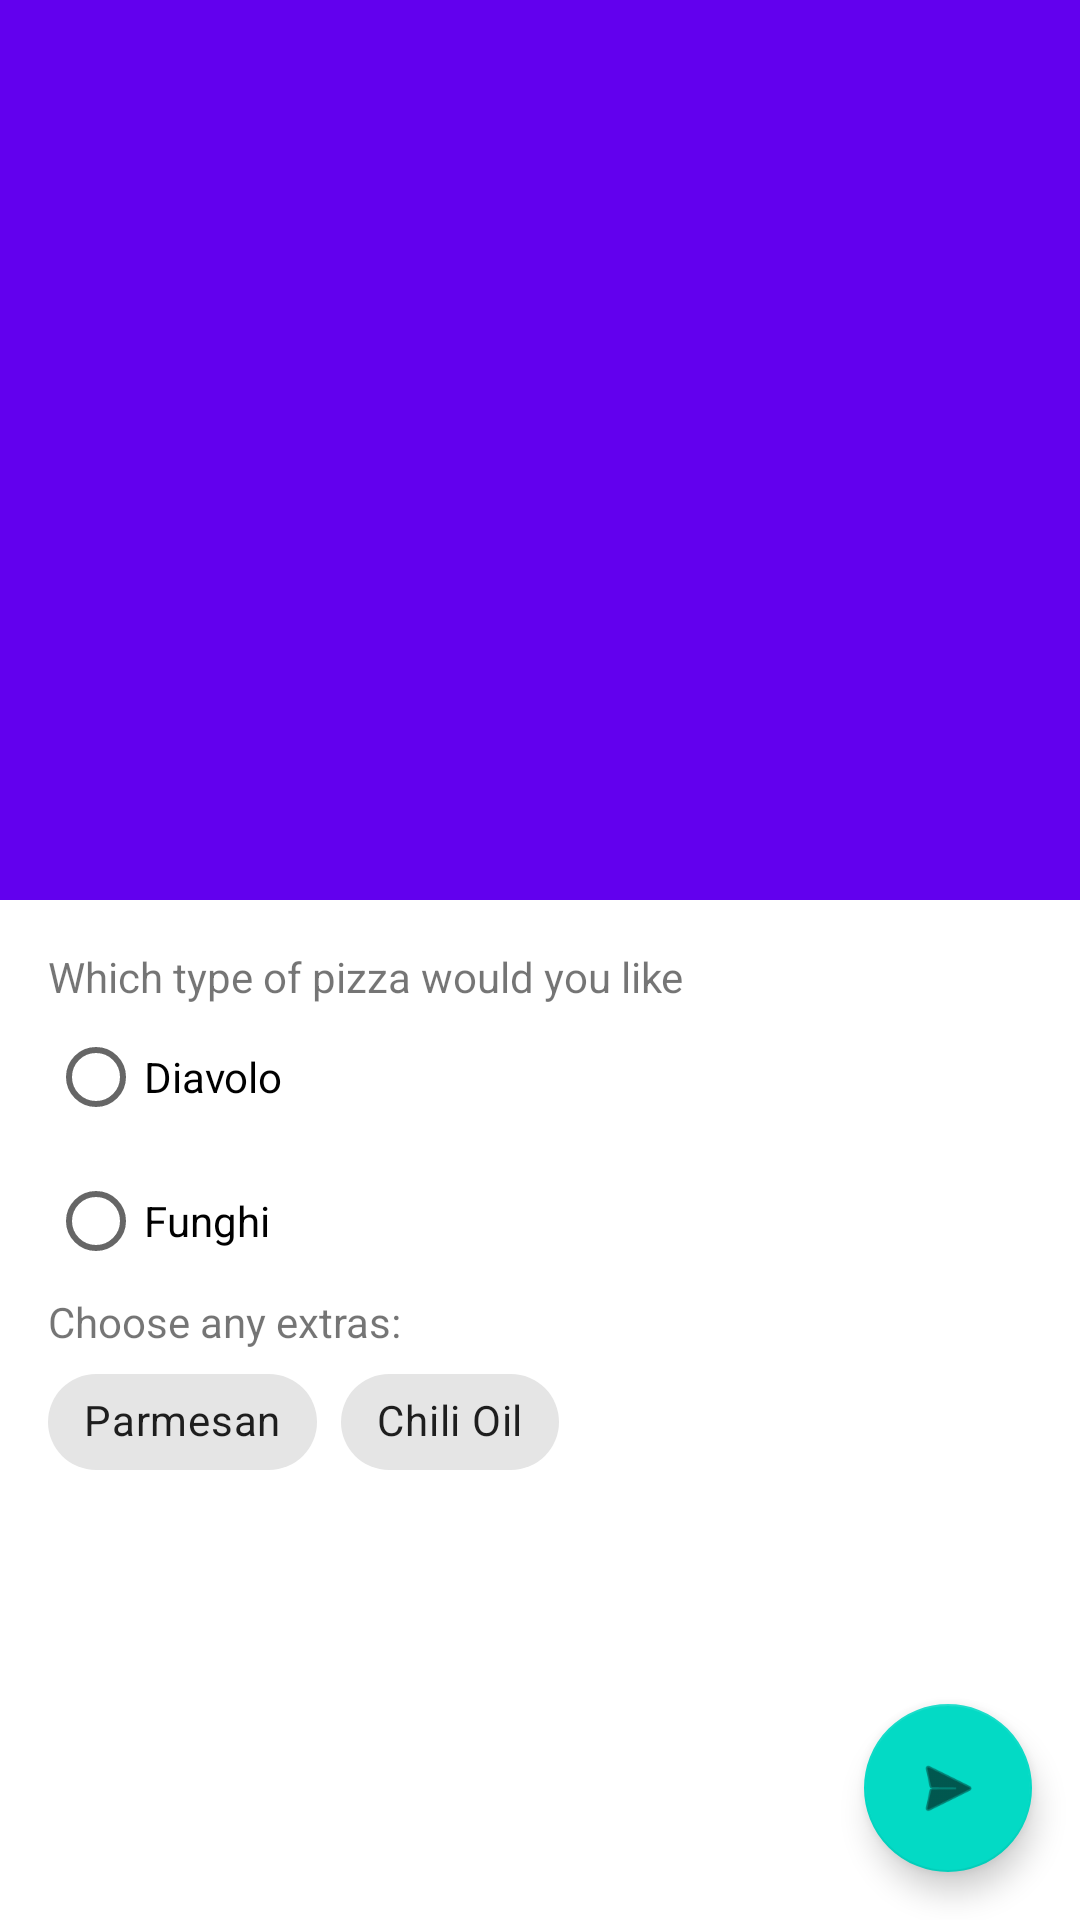

Where to tap for icons on this 1080w x 1920h app screen, as (x,y):
send: (948,1788)
